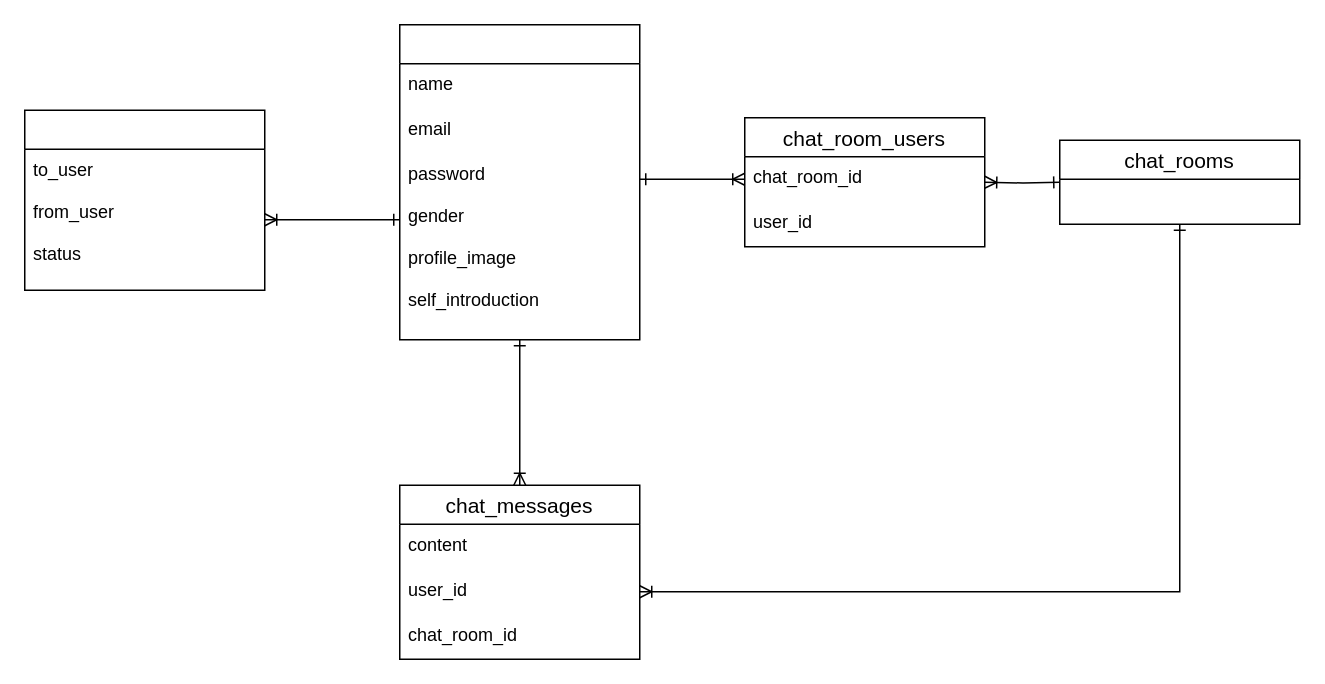
This 1325x684 diagram has some shape labels left out. Here are the shapes that lost their labels. From the top down, the box of each, then its label:
(23, 109, 265, 290): reactions
(398, 23, 640, 340): users
